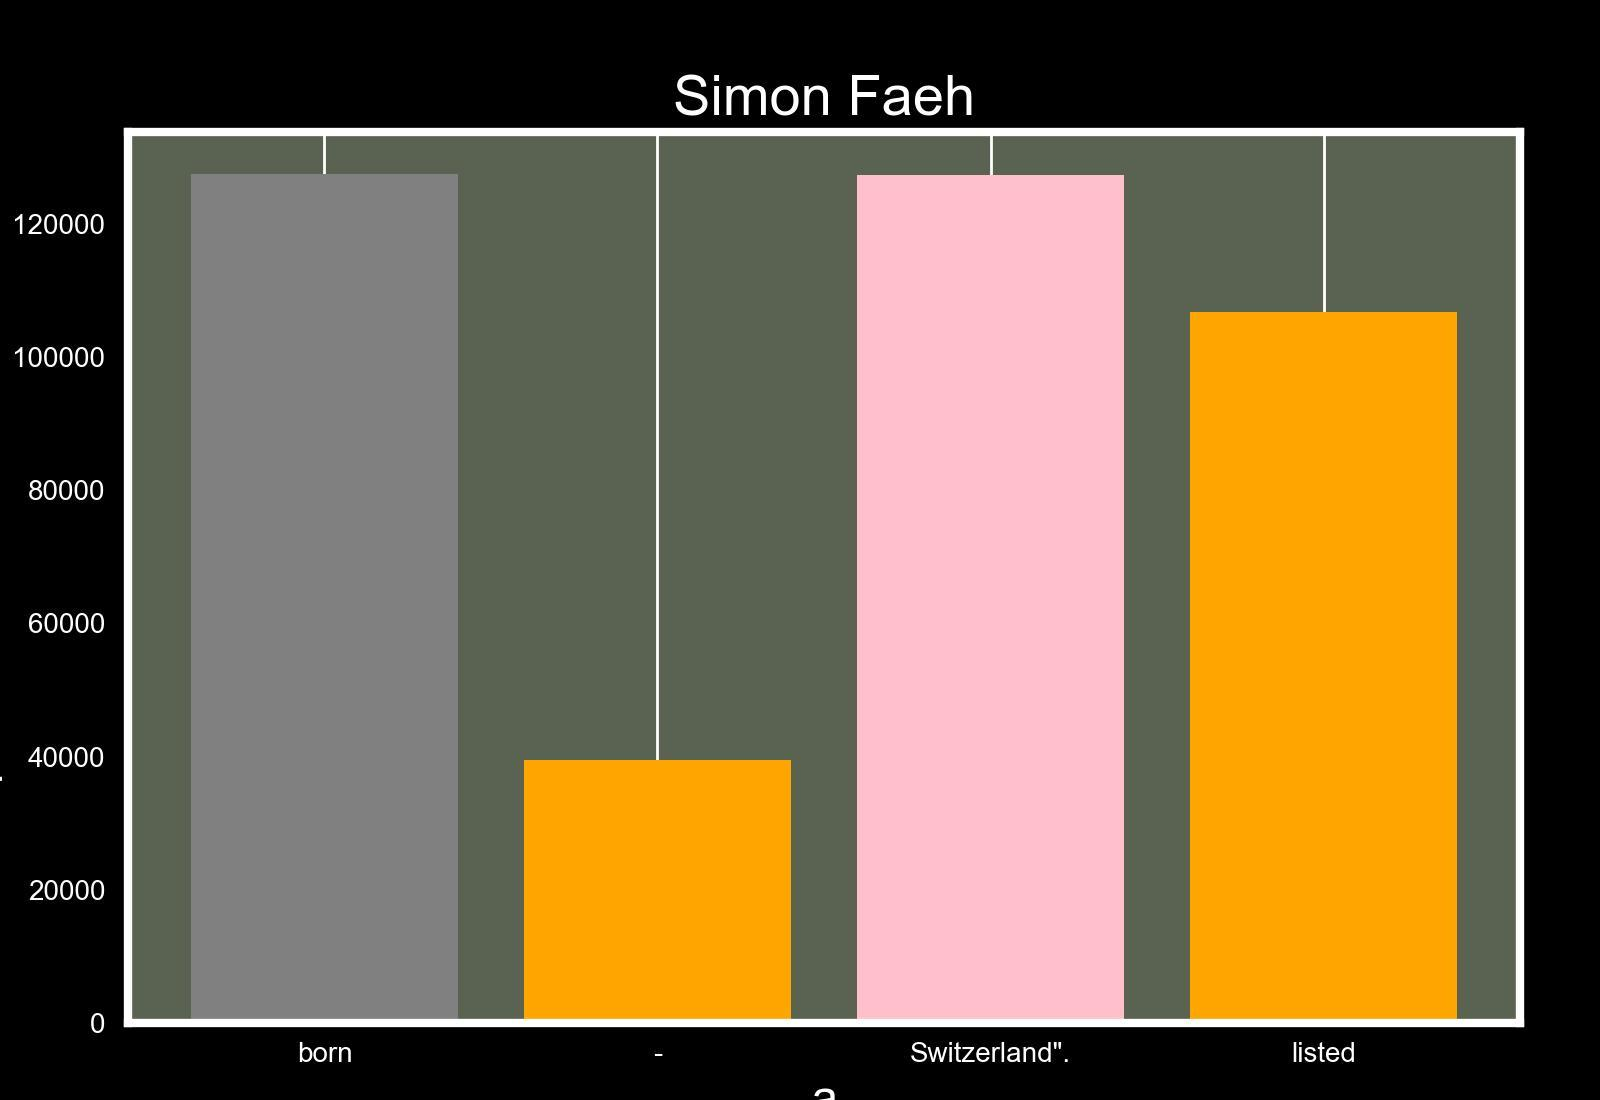axis: (0, 214, 105, 1039)
rectangle: (857, 175, 1124, 1023), (192, 174, 458, 1023), (1190, 312, 1456, 1023), (524, 760, 790, 1023)
